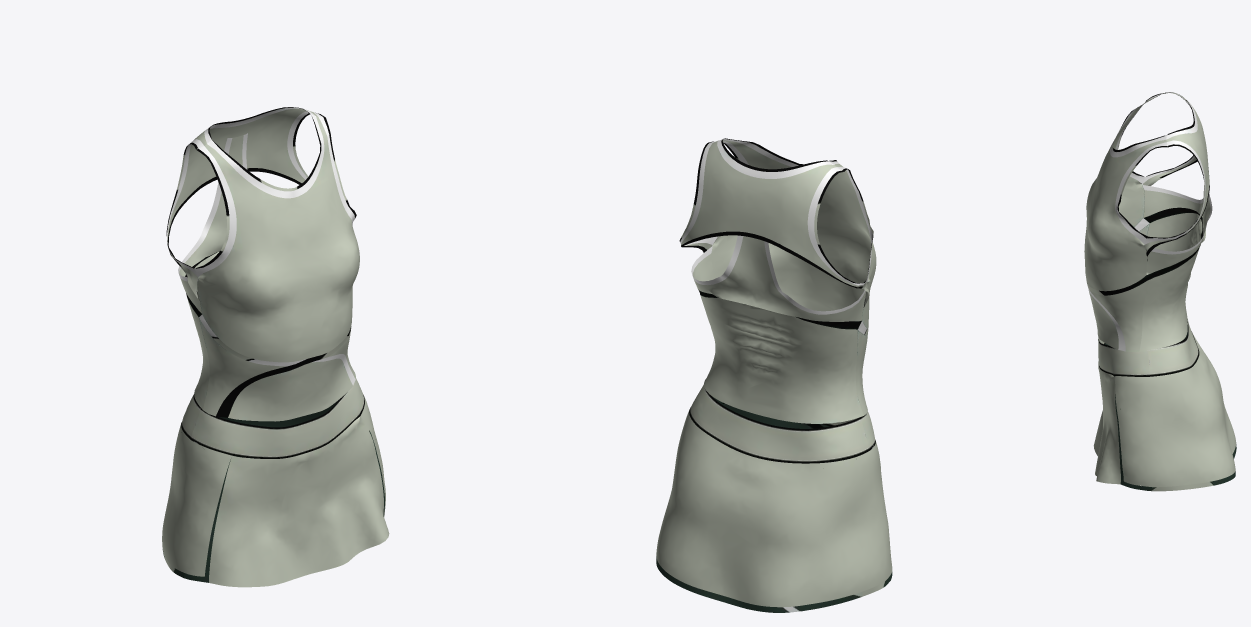
3 views of the same model, side by side, from view 1: azimuth 30°, elevation 25°; view 2: azimuth 150°, elevation 25°; view 3: azimuth 270°, elevation 25° (orthographic). The views are drawn at different scales.
Parts seen in each view (by area): view 1: NB; view 2: NB; view 3: NB.
Part boxes in pixels (x1=…): NB: x1=162, y1=107, x2=389, y2=587; NB: x1=656, y1=138, x2=892, y2=612; NB: x1=1084, y1=92, x2=1236, y2=491.
Bounding box in the file's own units: 0.8031 × 0.923 × 0.2635.
2 materials, 1 textured.
